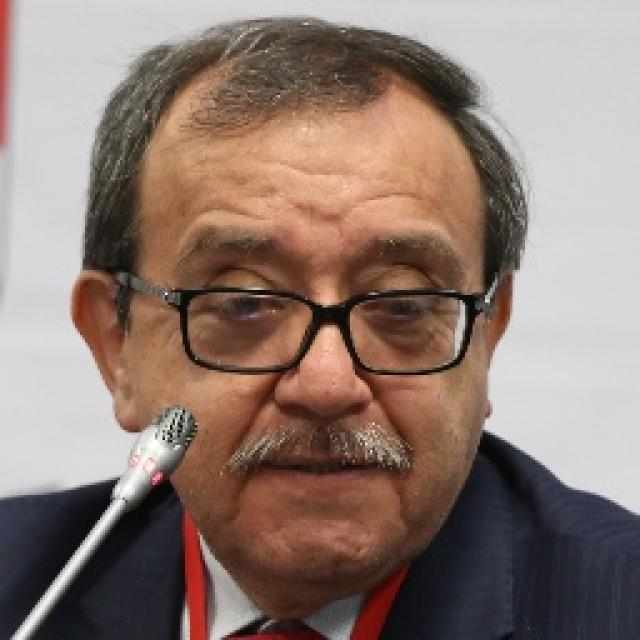earlobe: (109, 368, 148, 435)
eye: (366, 290, 435, 324), (207, 290, 284, 320)
nose: (268, 395, 381, 455)
wholeear: (68, 269, 148, 434)
